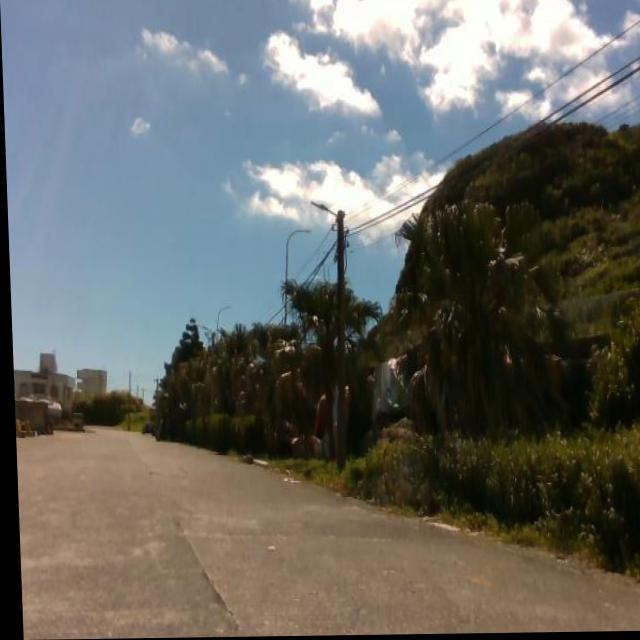pollute: (299, 347, 412, 464)
